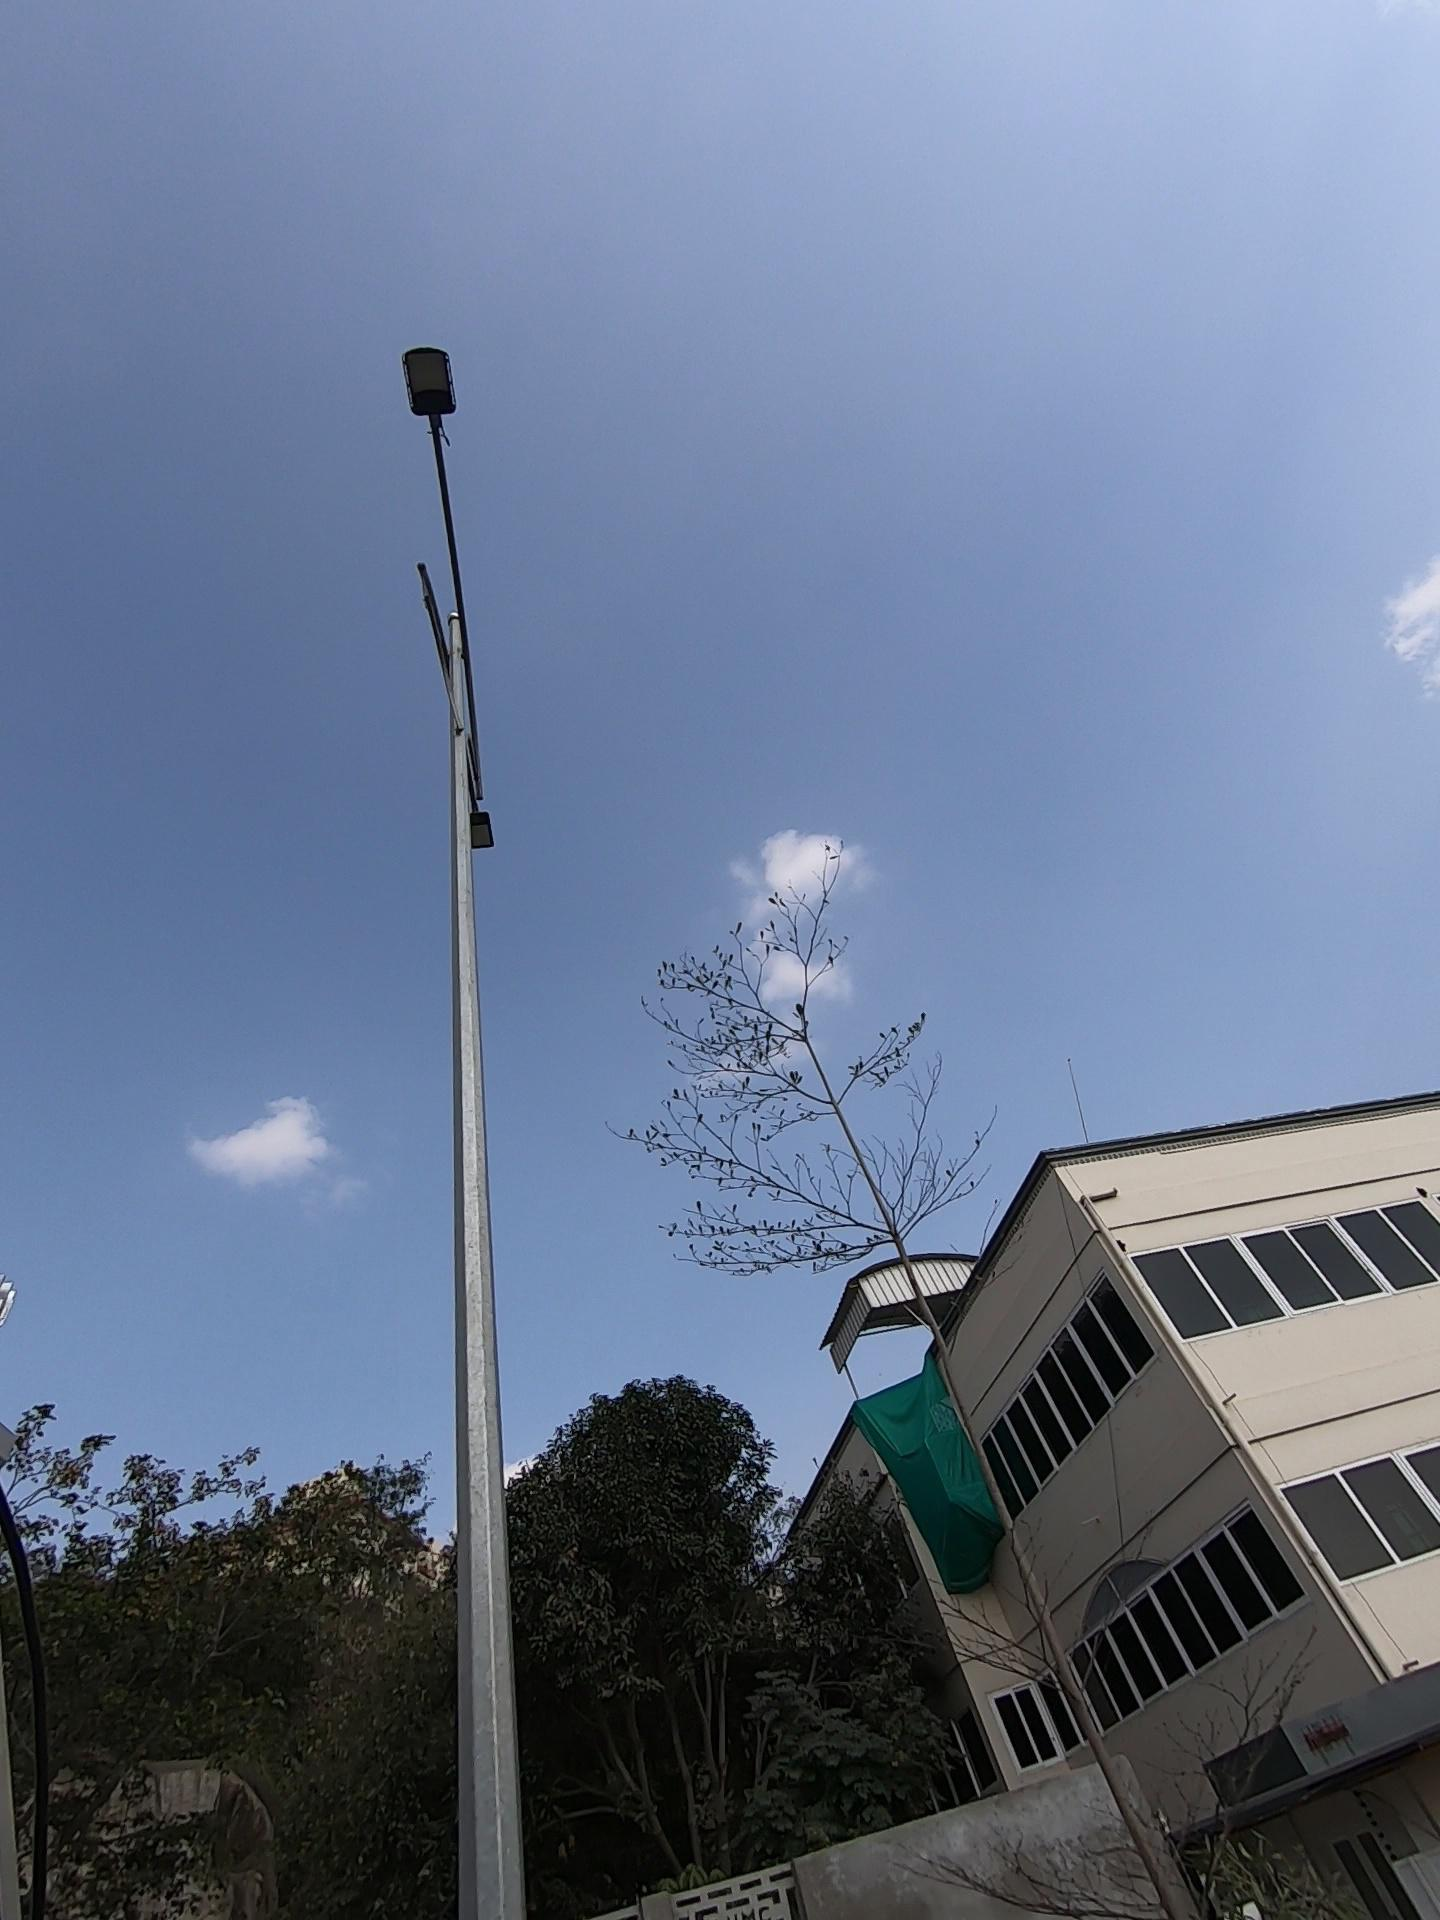off: (321, 311, 591, 900)
